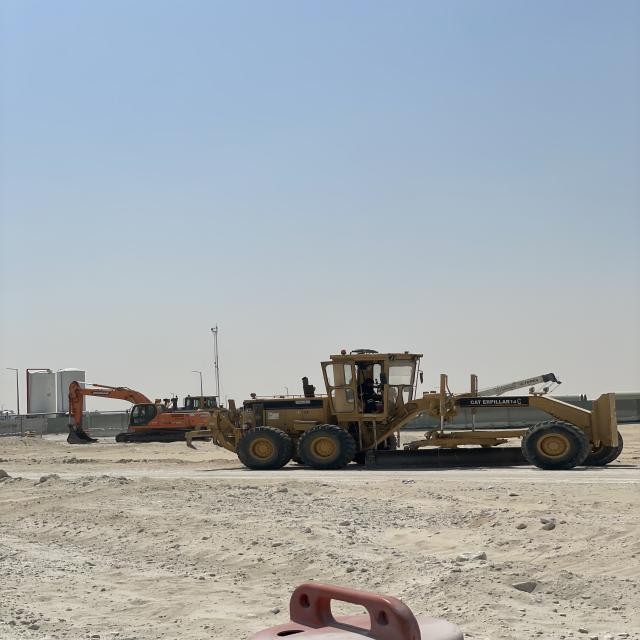Excavator: (64, 372, 210, 449)
Grader: (185, 343, 624, 474)
